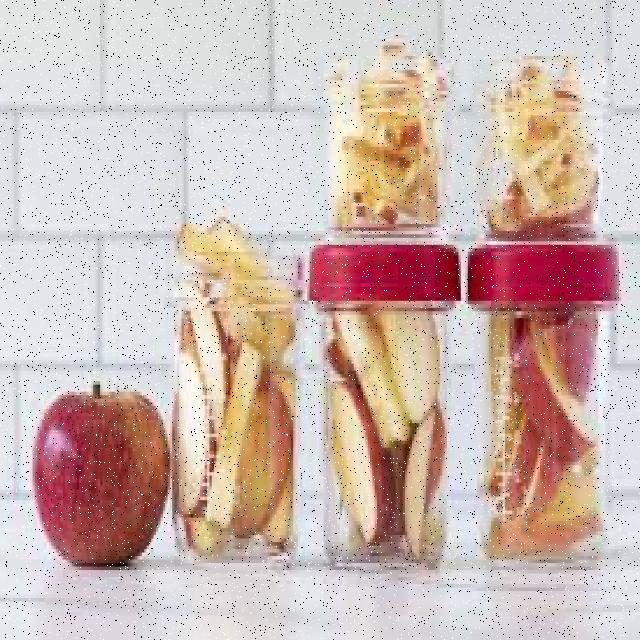Apple: (33, 370, 173, 570), (206, 346, 262, 529), (525, 319, 594, 455), (337, 387, 389, 544), (403, 418, 441, 560), (391, 310, 442, 415), (178, 349, 208, 519), (256, 395, 291, 520), (493, 516, 594, 558), (504, 420, 544, 516), (202, 315, 230, 426), (530, 455, 568, 529)
